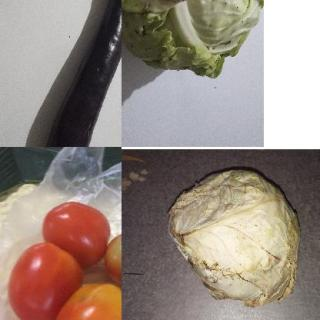Tomat: (6, 190, 122, 320)
